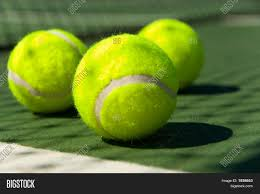tennis_ball: (70, 31, 180, 143), (5, 27, 92, 115), (138, 16, 206, 90)
